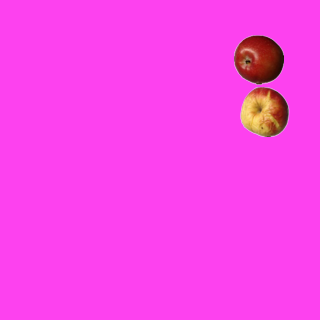Apple Braeburn: (233, 34, 283, 84)
Apple Red Yellow 1: (239, 86, 289, 136)
